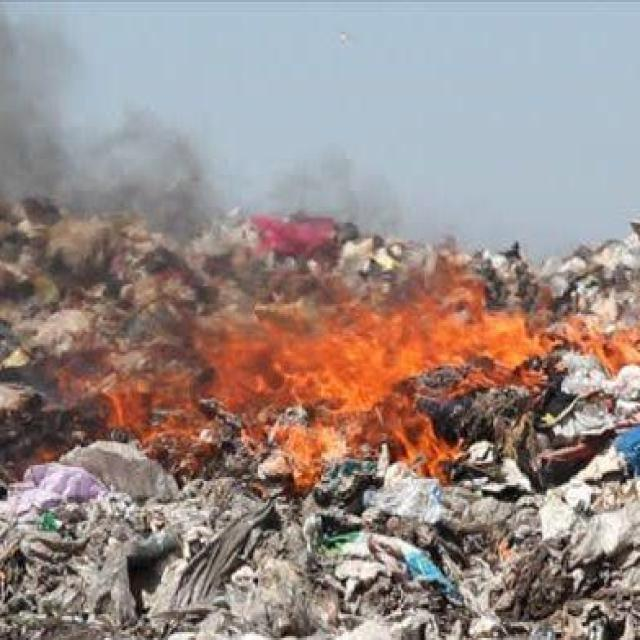Fire: (221, 305, 640, 491), (99, 298, 311, 478)
Smoke: (22, 23, 436, 234)
